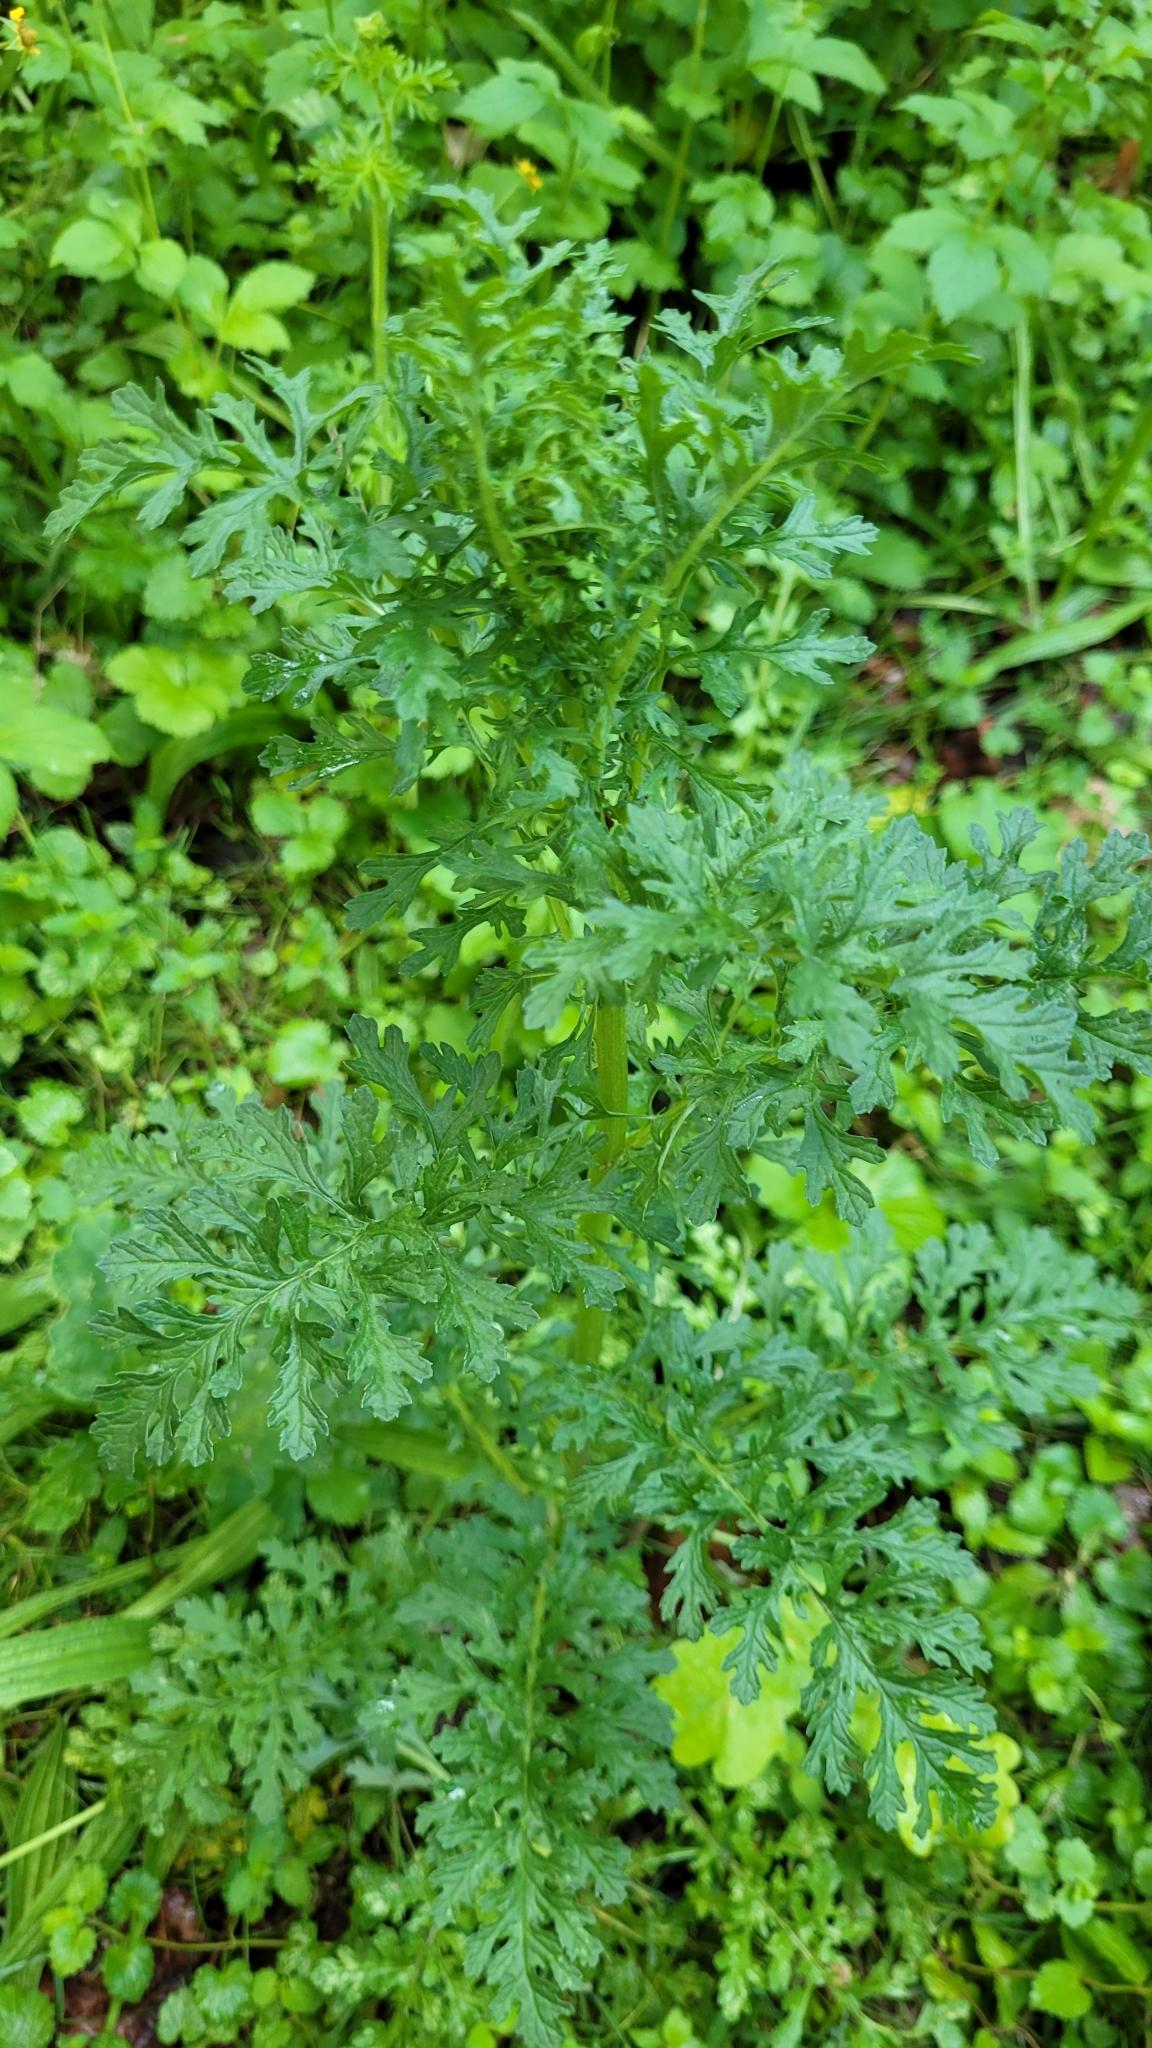Jacobaea vulgaris: (51, 177, 1152, 2048)
